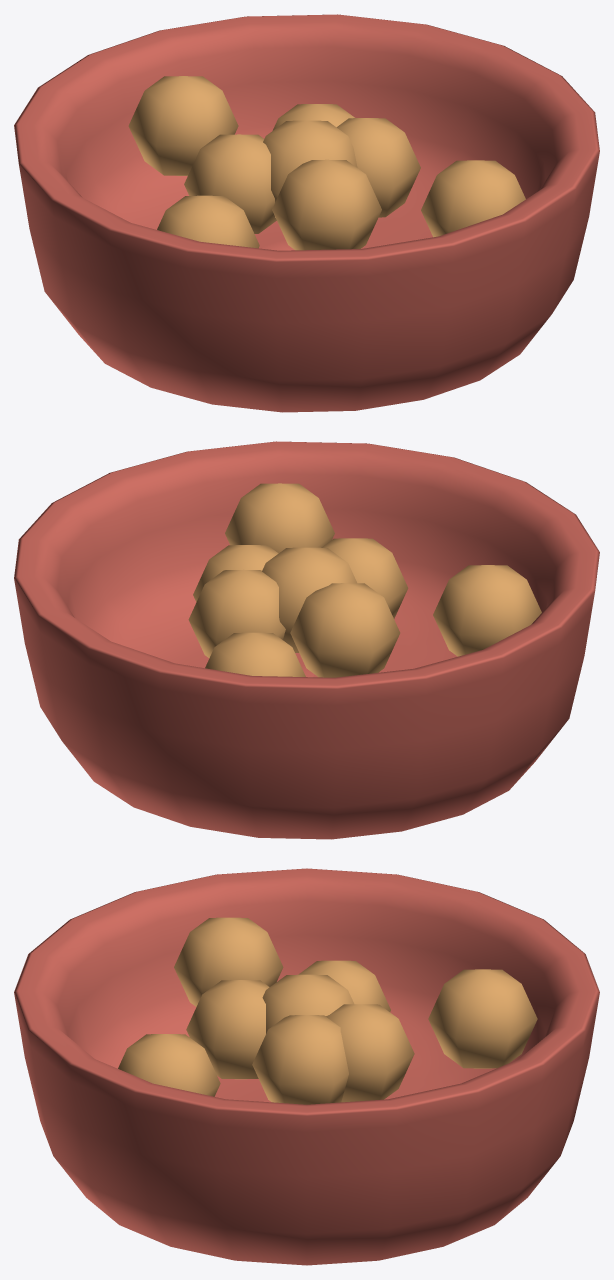
The model's file is petroom_food_bowl.glb.
The picture shows the model from 3 angles, top to bottom: view 1: azimuth 30°, elevation 25°; view 2: azimuth 150°, elevation 25°; view 3: azimuth 270°, elevation 25°; orthographic projection.
Visible parts, largest first — view 1: petroom_food_bowl_mesh; view 2: petroom_food_bowl_mesh; view 3: petroom_food_bowl_mesh.
Boxes of the visible parts, bbox=[...] form: petroom_food_bowl_mesh: bbox=[14, 14, 599, 412]; petroom_food_bowl_mesh: bbox=[14, 441, 599, 839]; petroom_food_bowl_mesh: bbox=[14, 868, 599, 1265].
Bounding box in the file's own units: 0.1818 × 0.07 × 0.1818.
